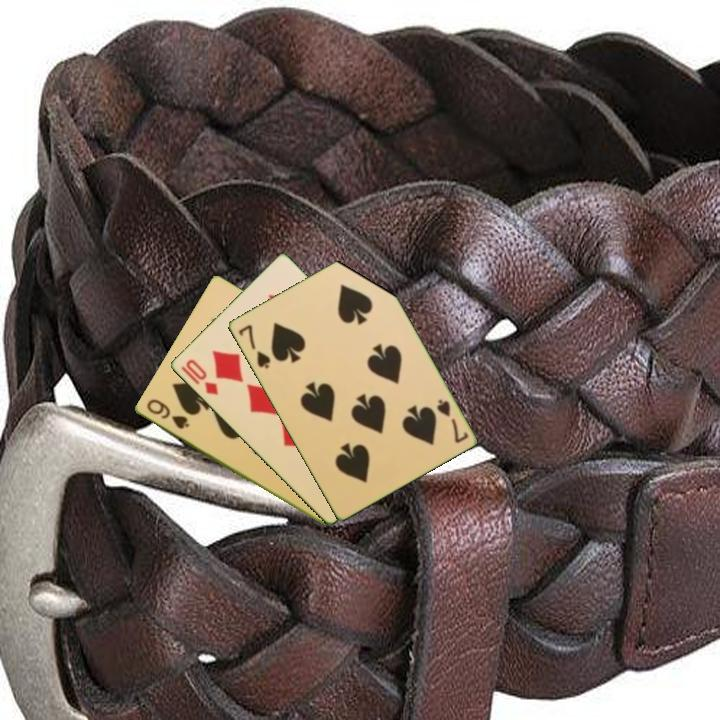10d: (182, 356, 221, 398)
7s: (235, 321, 273, 371), (433, 396, 471, 446)
9s: (143, 395, 192, 432)
